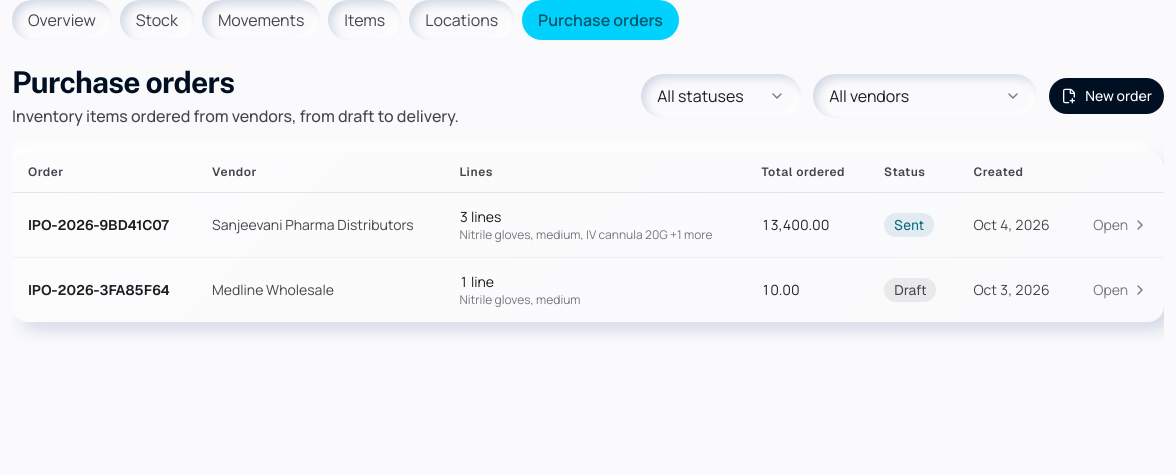
inventory purchase order list › filters by status and vendor with the API's own names, leaving "all" out
The width and height of the screenshot is (1176, 475).
Expected: the row "IPO-2026-3FA85F64" is shown, [12,258,1164,322]
Step 1. Click the dropdown named "Filter by status" → click(721, 96), box [641,74,801,118]
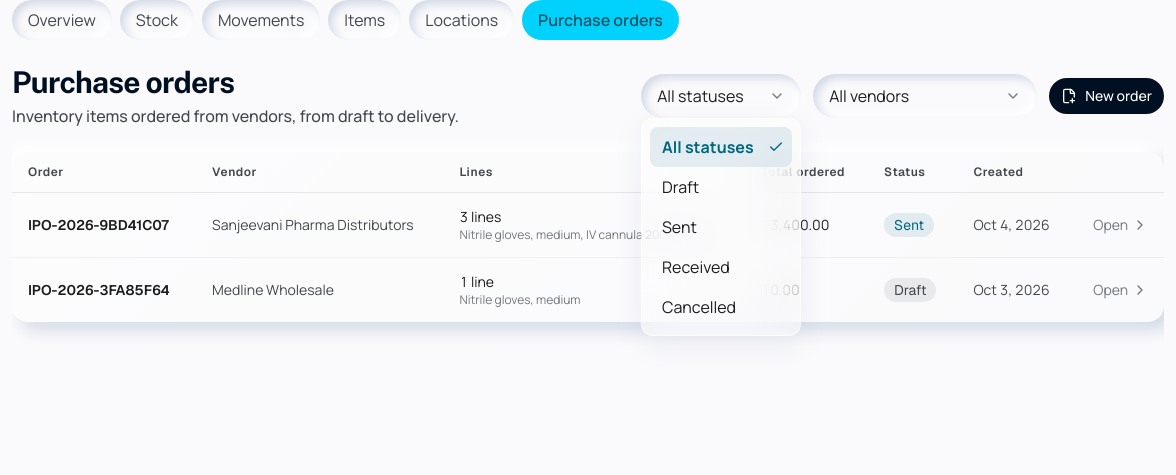
Step 2. Click the option "Sent" → click(679, 227), box [662,216,697,238]
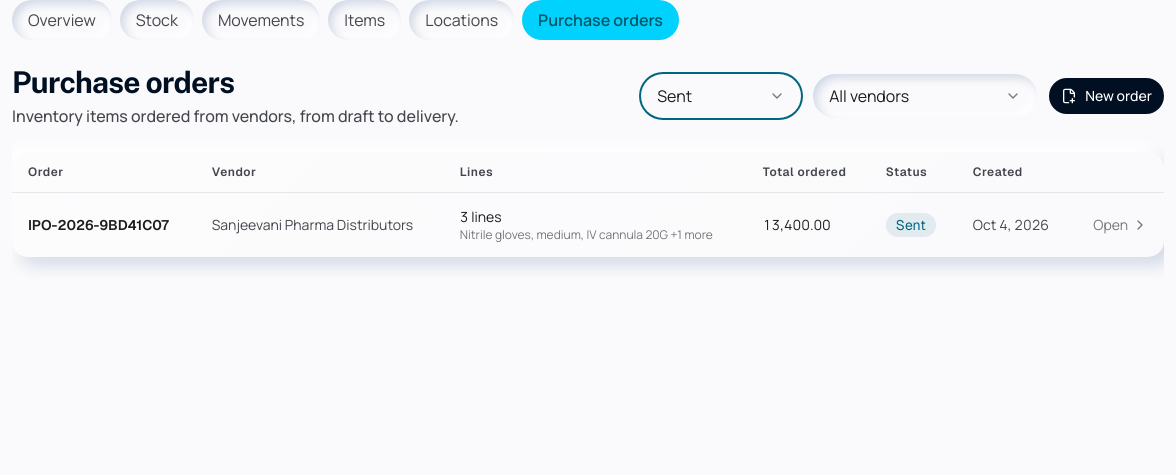
Expected: the link "IPO-2026-3FA85F64" is gone
Step 3. Click the dropdown named "Filter by vendor" → click(925, 96), box [813,74,1037,118]
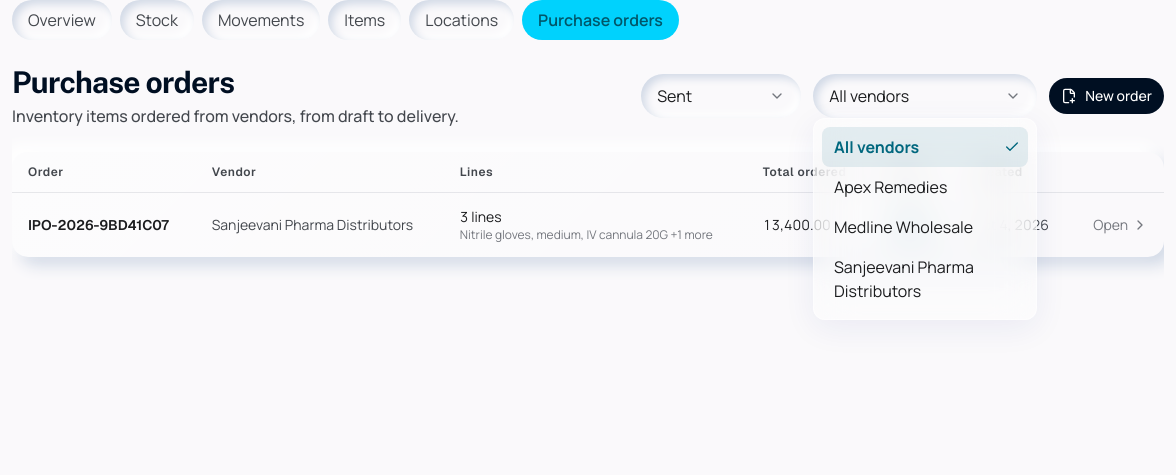
Expected: the option "Apex Remedies" is shown, [834,176,947,198]
Step 4. Click the option "Medline Wholesale" → click(904, 227), box [834,216,973,238]
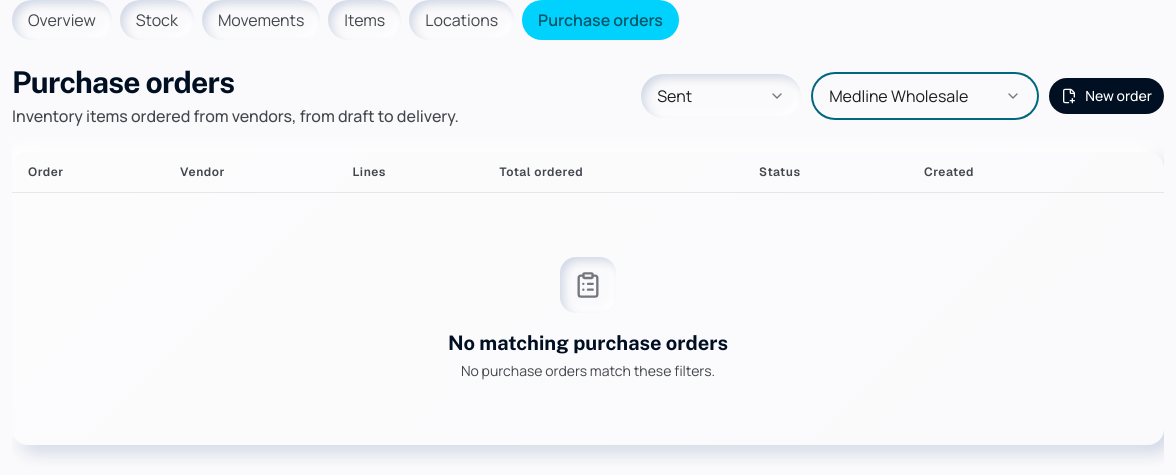
Expected: the text "No matching purchase orders" is shown, [448,329,728,357]
Step 5. Click the dropdown named "Filter by status" → click(721, 96), box [641,74,801,118]
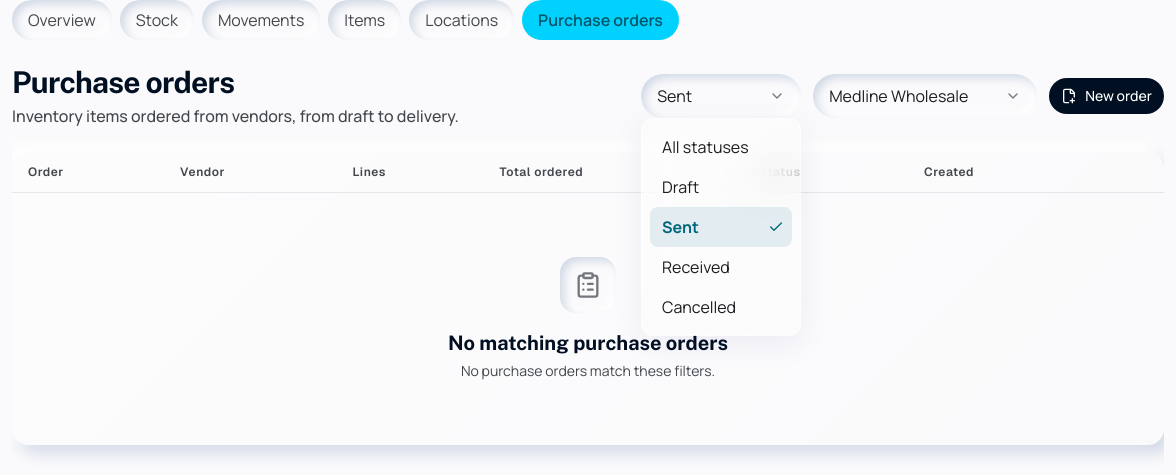
Step 6. Click the option "All statuses" → click(705, 147), box [662,136,749,158]
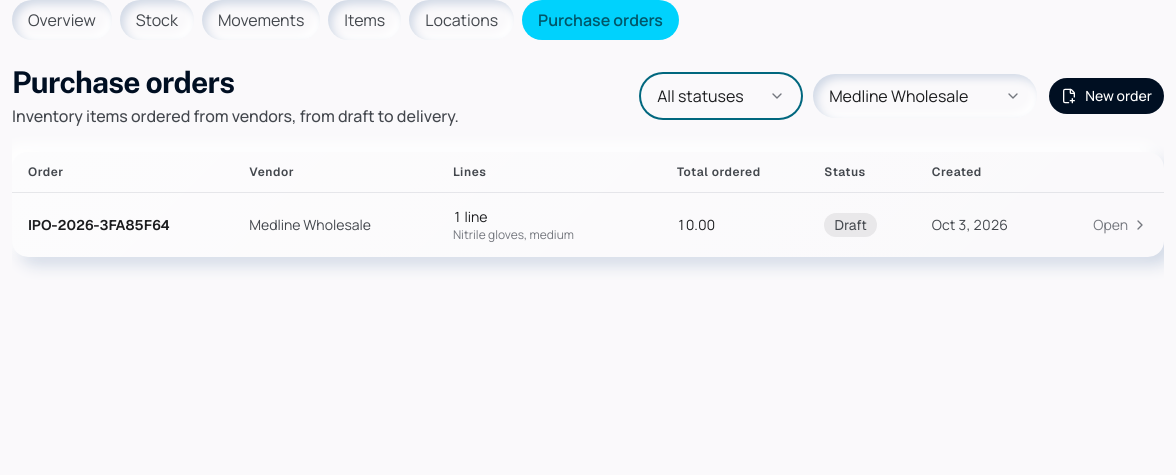
Expected: the row "IPO-2026-3FA85F64" is shown, [12,192,1164,257]
